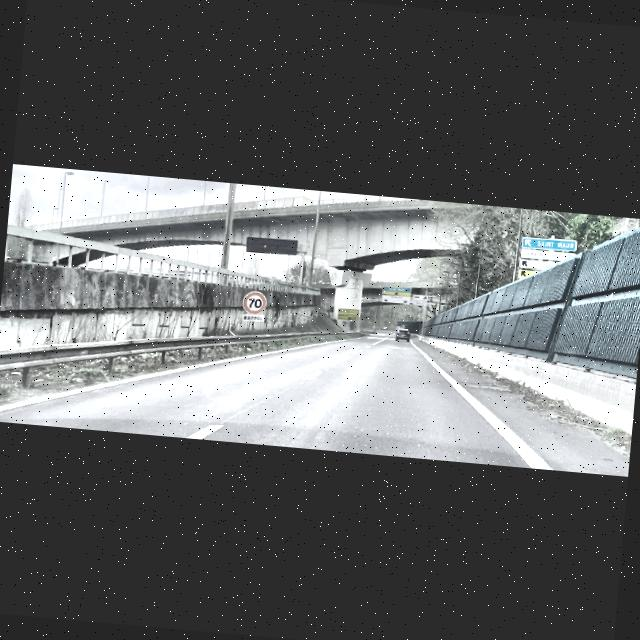speed_70: (242, 290, 268, 314)
